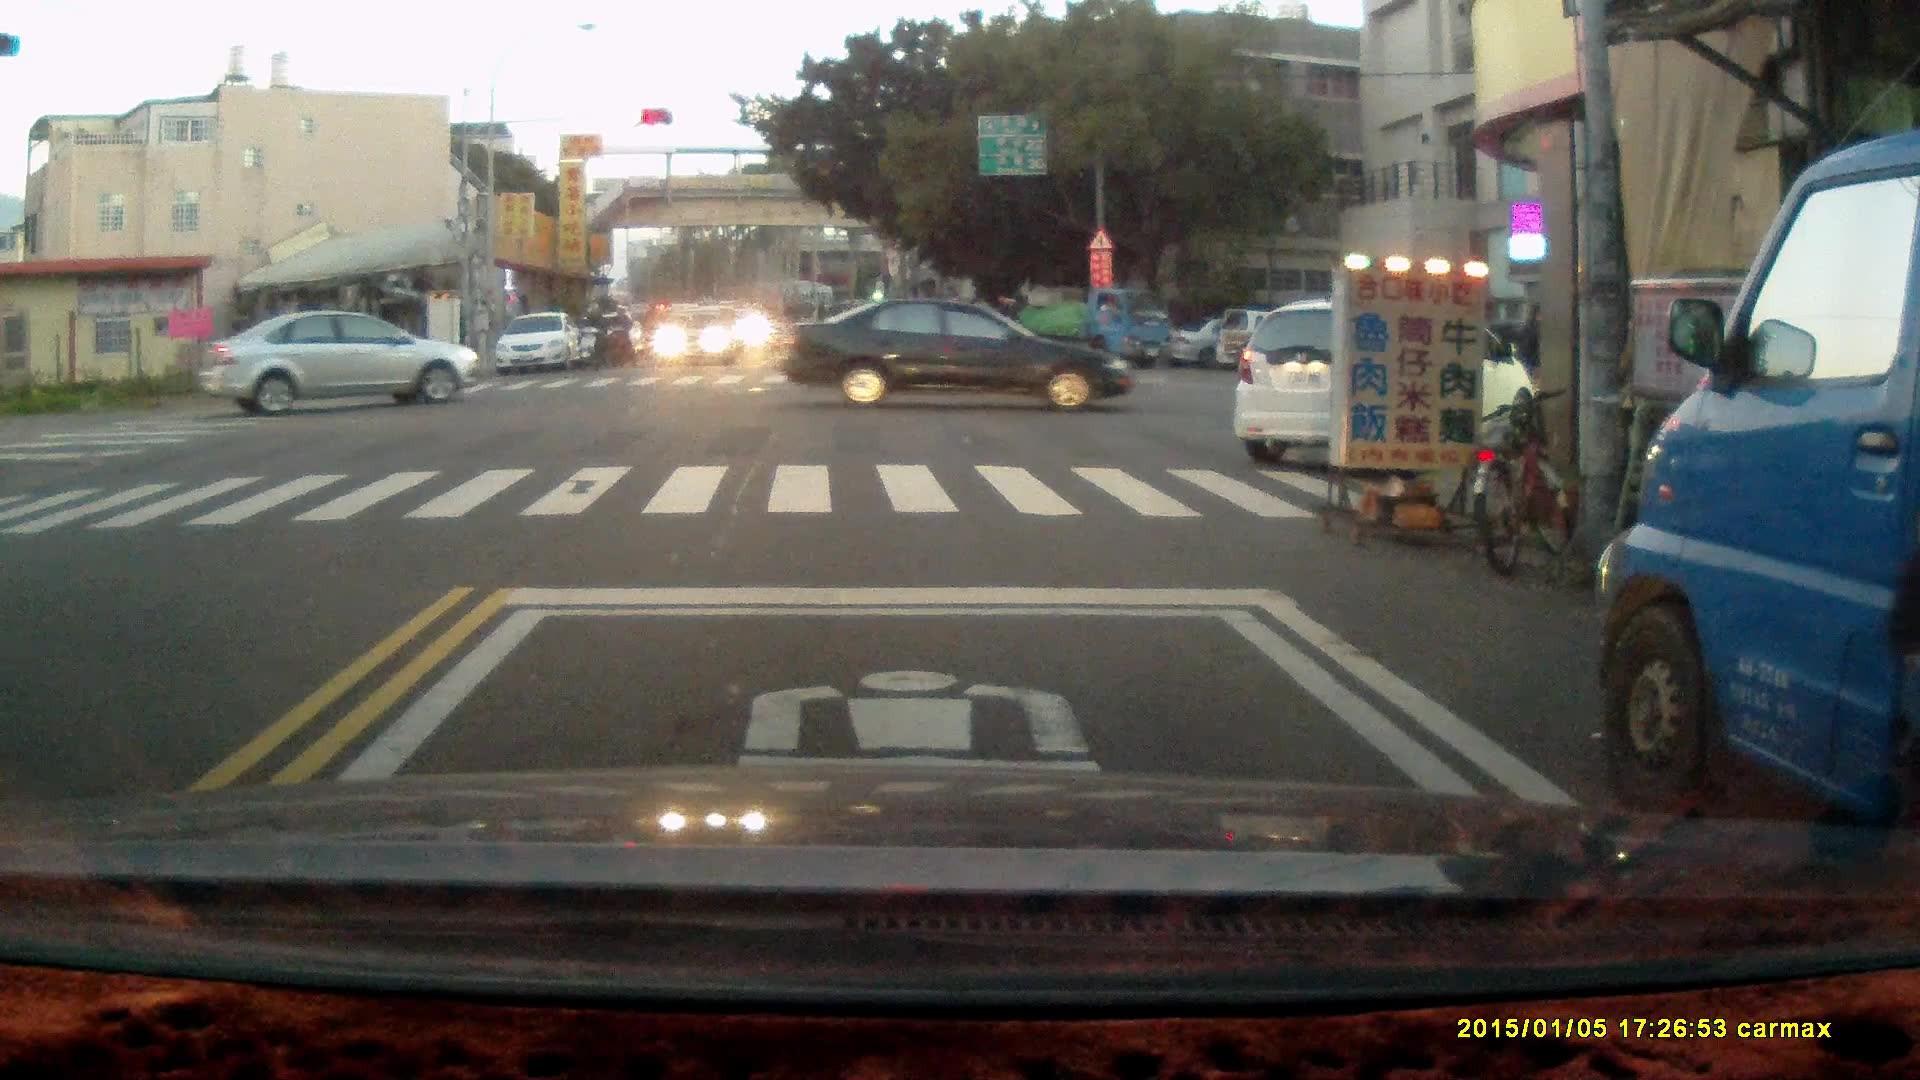pedestrian: (1513, 296, 1547, 377)
rider: (576, 301, 608, 367), (603, 300, 633, 365)
vehicle: (1598, 132, 1920, 844), (1233, 296, 1533, 459), (780, 297, 1140, 411), (198, 313, 475, 414), (1002, 284, 1179, 367), (496, 313, 586, 377)
